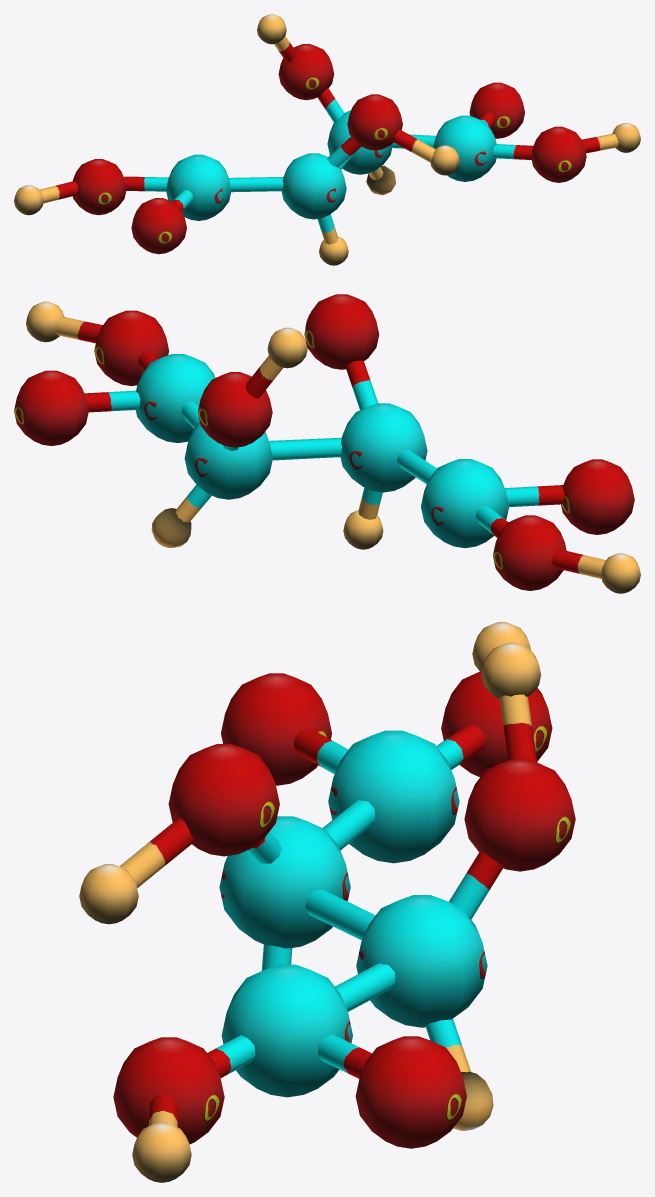
The model's file is MesoTartaricAcid.dae.
3 renders of one model, top to bottom at view 1: azimuth 30°, elevation 25°; view 2: azimuth 150°, elevation 25°; view 3: azimuth 270°, elevation 25°, orthographic. The views are drawn at different scales.
Visible parts, largest first — view 1: polySurface101; view 2: polySurface101; view 3: polySurface101.
Boxes of the visible parts, bbox=[...] form: polySurface101: bbox=[14, 14, 640, 265]; polySurface101: bbox=[14, 294, 640, 593]; polySurface101: bbox=[79, 622, 575, 1182].
Size of the model in its own units: 10.18 by 3.73 by 4.07.
Materials: 1 (1 with a texture image).
